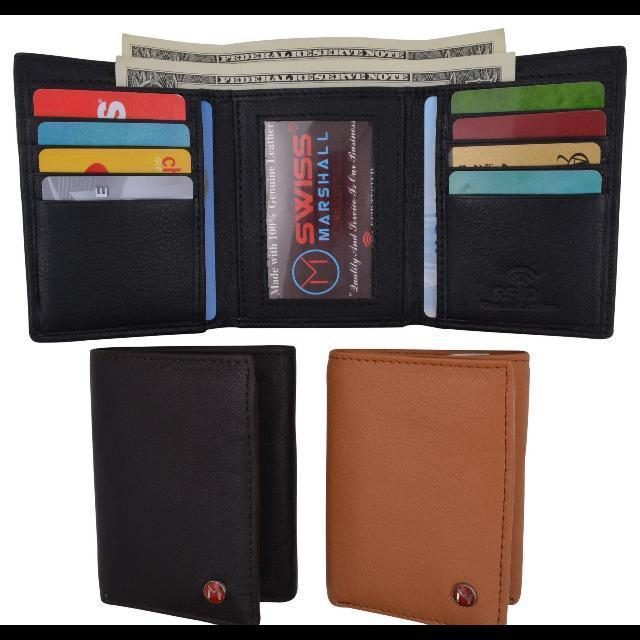wallet: (11, 32, 630, 344), (91, 342, 299, 624), (325, 346, 531, 624)
